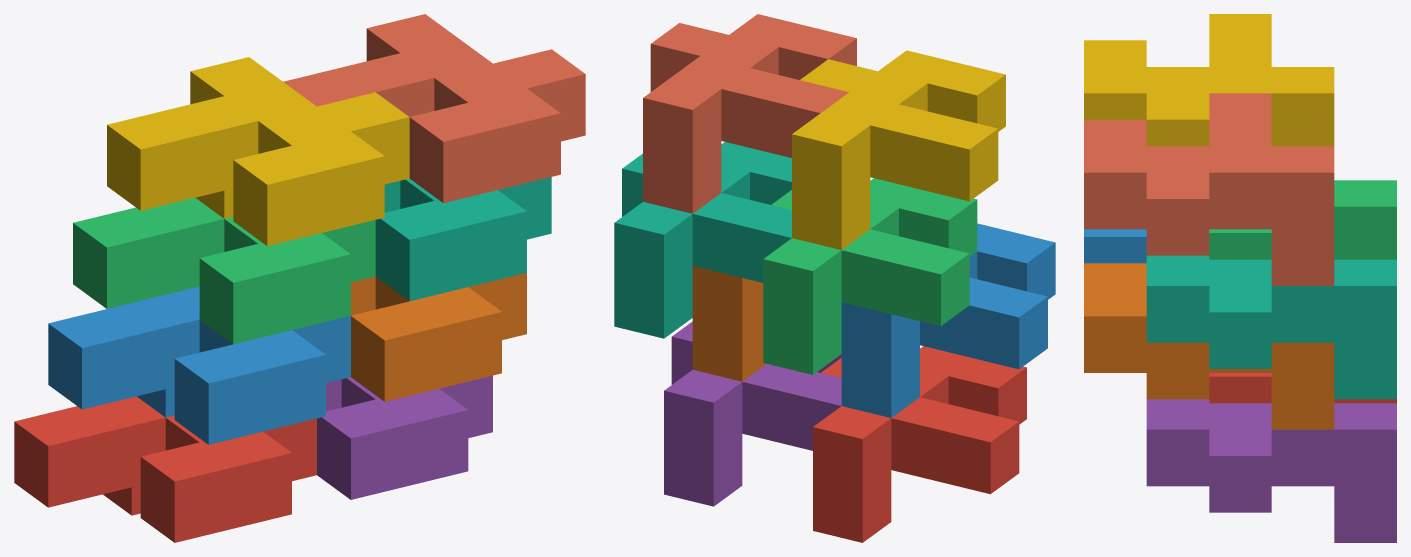
Rendered from tiling.obj.
The picture shows the model from 3 angles, left to right: view 1: azimuth 30°, elevation 25°; view 2: azimuth 150°, elevation 25°; view 3: azimuth 270°, elevation 25°; orthographic projection. The views are drawn at different scales.
Visible parts, largest first — view 1: copy_1_domain_4, copy_1_domain_2, copy_1_domain_8, copy_1_domain_1, copy_1_domain_3, copy_1_domain_6, copy_1_domain_7, copy_1_domain_5; view 2: copy_1_domain_4, copy_1_domain_8, copy_1_domain_3, copy_1_domain_1, copy_1_domain_7, copy_1_domain_2, copy_1_domain_5, copy_1_domain_6; view 3: copy_1_domain_8, copy_1_domain_5, copy_1_domain_7, copy_1_domain_4, copy_1_domain_6, copy_1_domain_3, copy_1_domain_1, copy_1_domain_2.
Part boxes in pixels (box(x1,y1,x2,y2)): copy_1_domain_4: box(107, 57, 409, 246); copy_1_domain_2: box(48, 286, 350, 444); copy_1_domain_8: box(283, 14, 585, 203); copy_1_domain_1: box(14, 396, 316, 542); copy_1_domain_3: box(73, 198, 375, 344); copy_1_domain_6: box(351, 273, 526, 401); copy_1_domain_7: box(375, 177, 551, 301); copy_1_domain_5: box(317, 375, 492, 499); copy_1_domain_4: box(792, 50, 1005, 249); copy_1_domain_8: box(643, 14, 856, 213); copy_1_domain_3: box(763, 178, 977, 374); copy_1_domain_1: box(813, 346, 1026, 542); copy_1_domain_7: box(614, 142, 791, 338); copy_1_domain_2: box(841, 223, 1055, 417); copy_1_domain_5: box(664, 321, 841, 506); copy_1_domain_6: box(692, 266, 766, 381); copy_1_domain_8: box(1084, 93, 1334, 285); copy_1_domain_5: box(1146, 399, 1396, 542); copy_1_domain_7: box(1146, 255, 1396, 399); copy_1_domain_4: box(1084, 14, 1334, 146); copy_1_domain_6: box(1084, 263, 1334, 429); copy_1_domain_3: box(1209, 180, 1396, 259); copy_1_domain_1: box(1209, 373, 1396, 403); copy_1_domain_2: box(1084, 229, 1146, 263).
Size of the model in its own units: 8 by 7 by 5.
